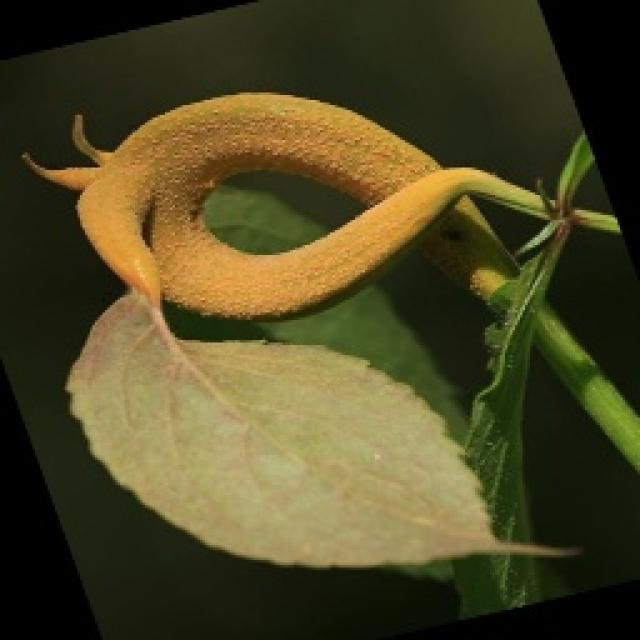Elderberry_rust: (62, 71, 458, 334)
